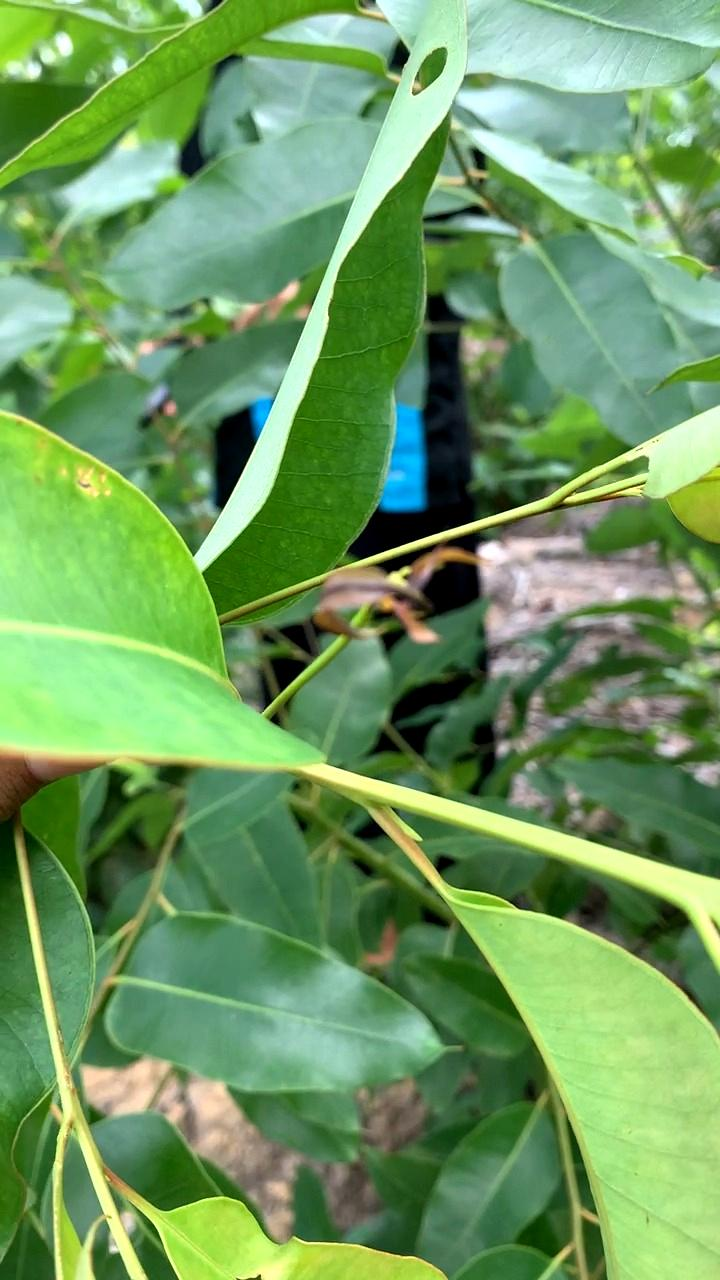Helopeltis-Withered Sprout: (308, 551, 479, 655)
